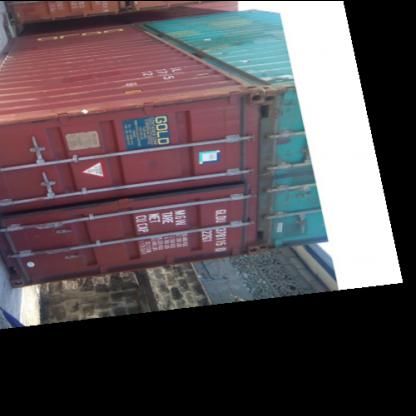Damage: (74, 91, 250, 113)
